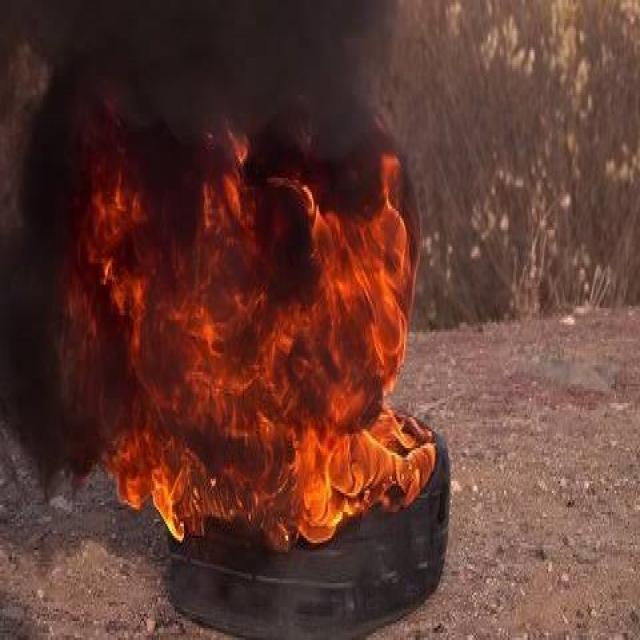fire: (74, 119, 436, 539)
